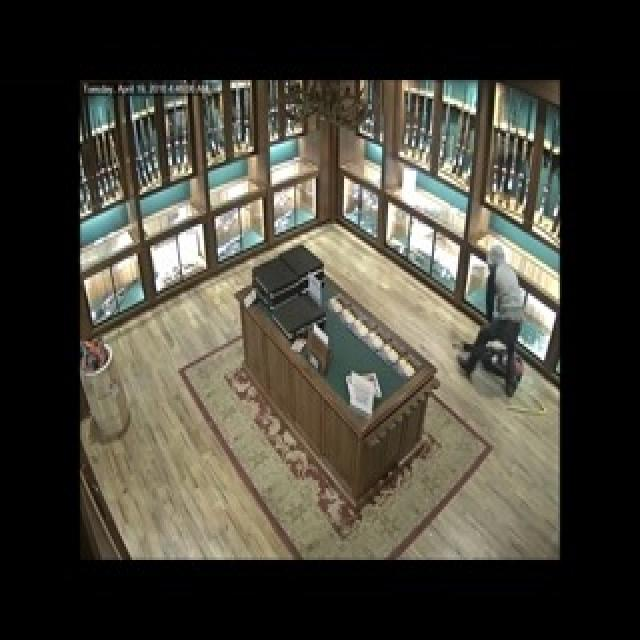thief: (467, 242, 528, 392)
